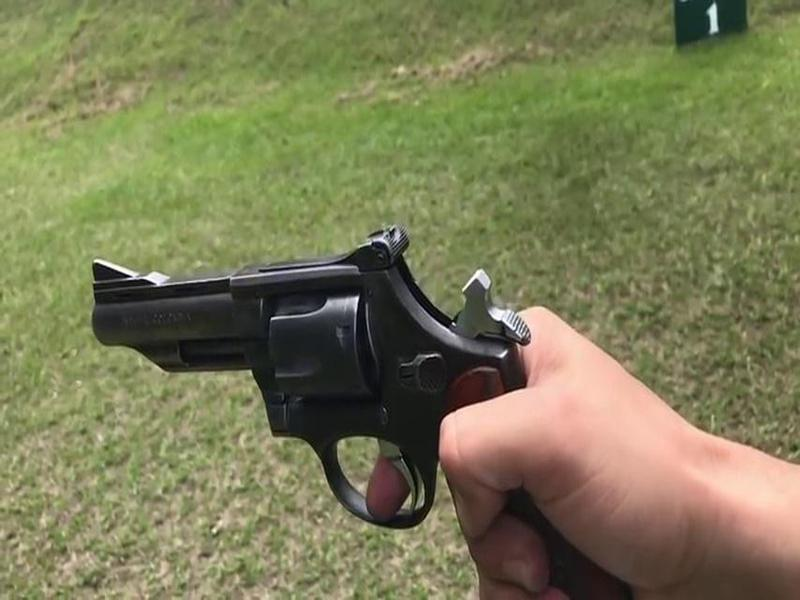Revolver: (104, 205, 571, 567)
